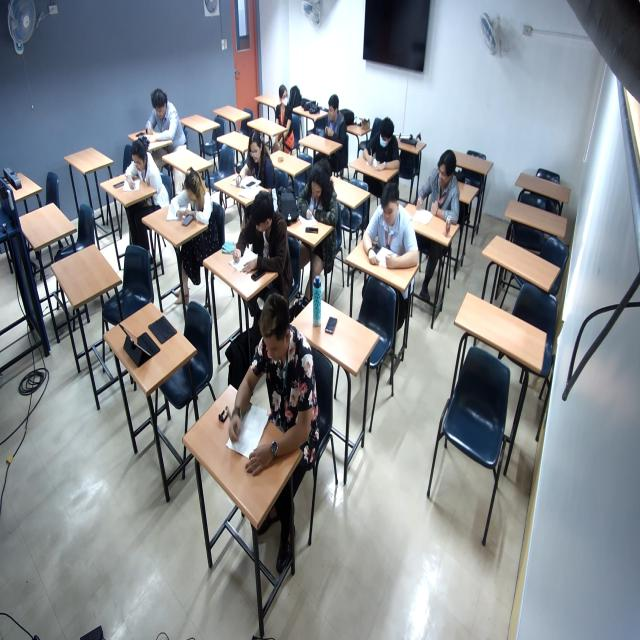read: (217, 296, 326, 477), (358, 188, 419, 285), (228, 200, 288, 291), (415, 150, 466, 228), (294, 167, 346, 237), (168, 167, 217, 232), (357, 118, 404, 180), (230, 134, 272, 195), (119, 141, 160, 200), (144, 94, 186, 147), (419, 215, 420, 216)
